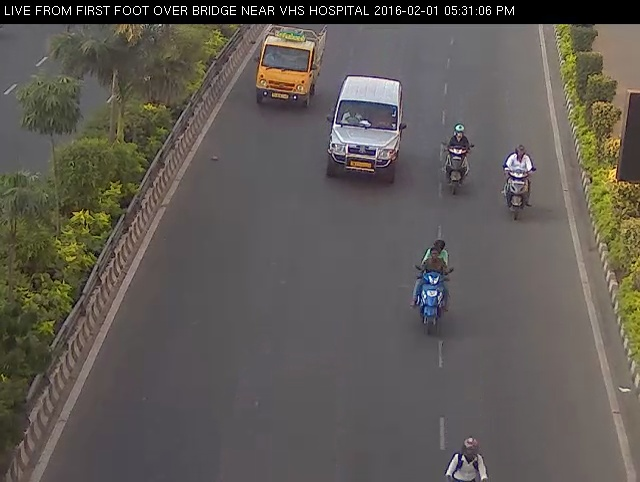Auto: (246, 17, 333, 120)
Car: (323, 71, 414, 193)
Person: (400, 230, 465, 340), (499, 136, 541, 231), (433, 117, 478, 193), (440, 419, 493, 482)
